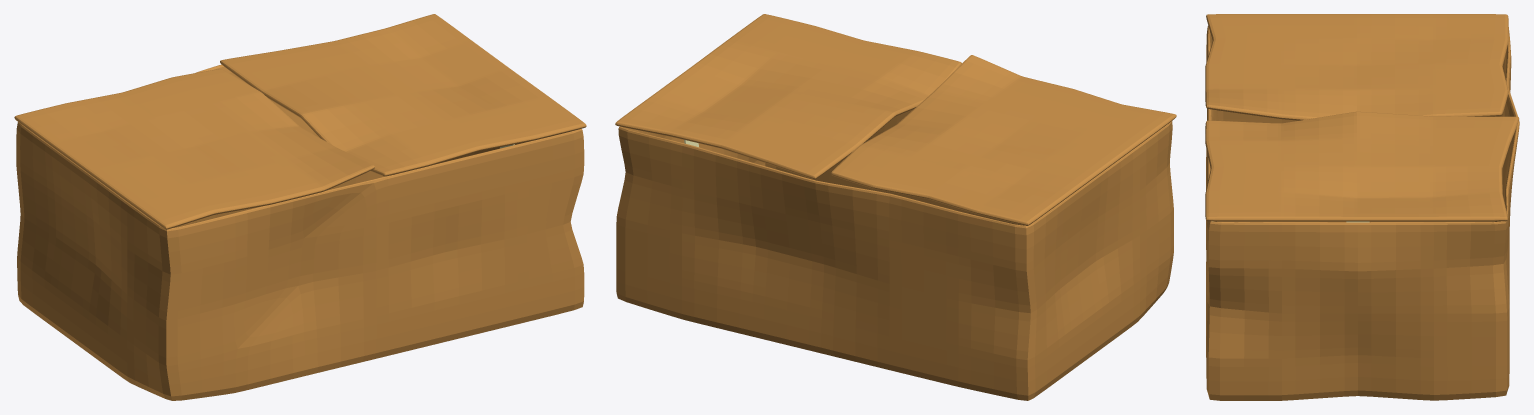
The model's file is CardboardBox.fbx.
3 views of the same model, side by side, from view 1: azimuth 30°, elevation 25°; view 2: azimuth 150°, elevation 25°; view 3: azimuth 270°, elevation 25° (orthographic).
Parts seen in each view (by area): view 1: Msh_Box, Msh_Cap.001, Msh_Cap; view 2: Msh_Box, Msh_Cap, Msh_Cap.001; view 3: Msh_Box, Msh_Cap.001, Msh_Cap.
Part boxes in pixels (x1,y1,x2,y2): Msh_Box: (16,64,584,400); Msh_Cap.001: (220,14,586,176); Msh_Cap: (14,69,374,229); Msh_Box: (616,109,1173,400); Msh_Cap: (831,55,1176,225); Msh_Cap.001: (615,14,961,179); Msh_Box: (1206,26,1519,400); Msh_Cap.001: (1205,111,1519,221); Msh_Cap: (1205,14,1508,120).
Size of the model in its own units: 401 by 175 by 256.
